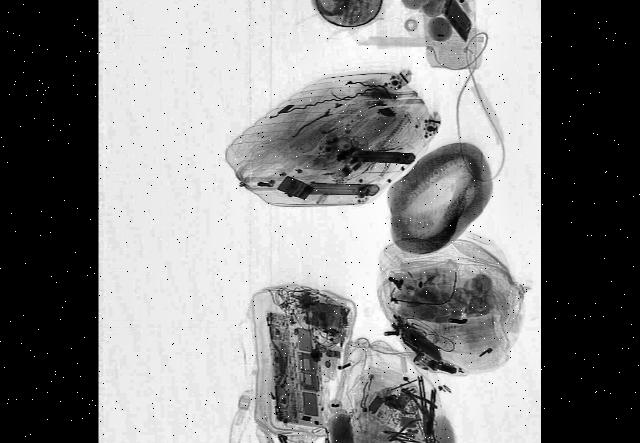Pliers: (399, 379, 438, 422), (388, 415, 423, 443)
